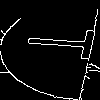T: (25, 25, 100, 62)
